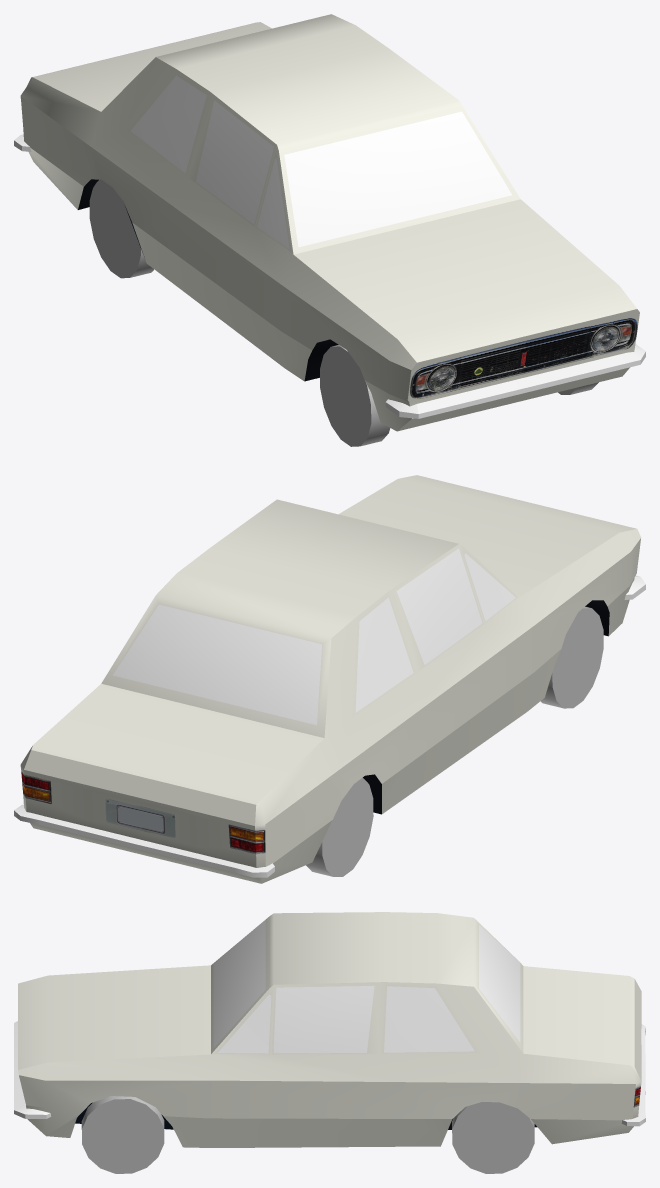
Rendered from Cortina low.fbx.
The picture shows the model from 3 angles, top to bottom: view 1: azimuth 30°, elevation 25°; view 2: azimuth 150°, elevation 25°; view 3: azimuth 270°, elevation 25°; orthographic projection. The views are drawn at different scales.
Parts seen in each view (by area): view 1: Low poly car grouped; view 2: Low poly car grouped; view 3: Low poly car grouped.
Boxes of the visible parts, left/top/right/bottom form: Low poly car grouped: left=14, top=14, right=645, bottom=446; Low poly car grouped: left=14, top=475, right=645, bottom=883; Low poly car grouped: left=14, top=912, right=645, bottom=1173.
Size of the model in its own units: 159 by 135 by 424.
